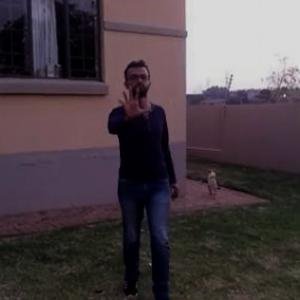follow_hand: (111, 81, 152, 127)
